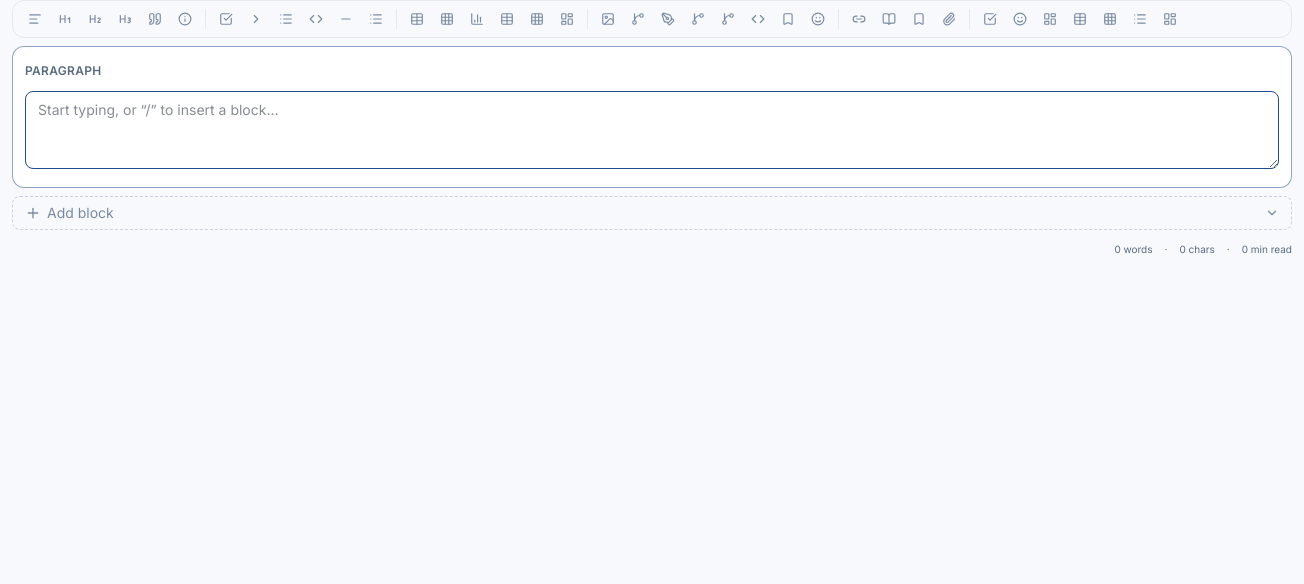
Test: BlockEditor — Know Studio blocks › starts with one paragraph block and a grouped insert menu
Expected: the text box named "Paragraph content" is shown, x1=25 y1=91 x2=1279 y2=169
Click the button "Add block".
click(80, 212)  # box x1=12 y1=196 x2=1292 y2=230
(page scrolled)
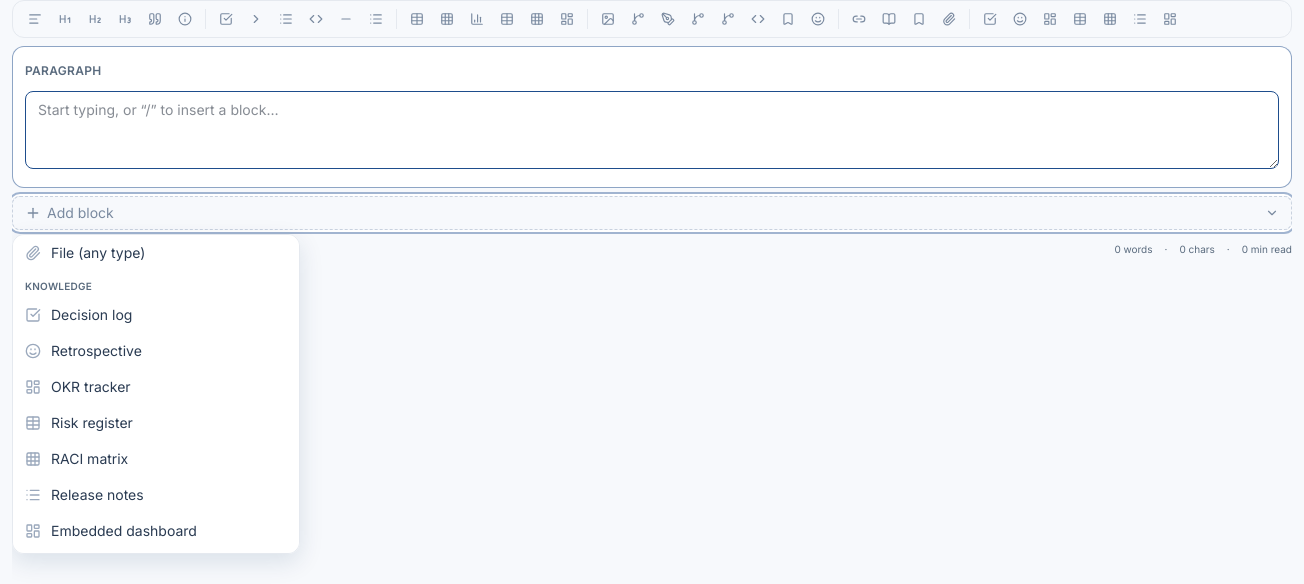
Result: the option "File (any type)" is shown at x1=13 y1=235 x2=299 y2=271
Result: the option "Decision log" is shown at x1=13 y1=297 x2=299 y2=333
Result: the option "OKR tracker" is shown at x1=13 y1=369 x2=299 y2=405
